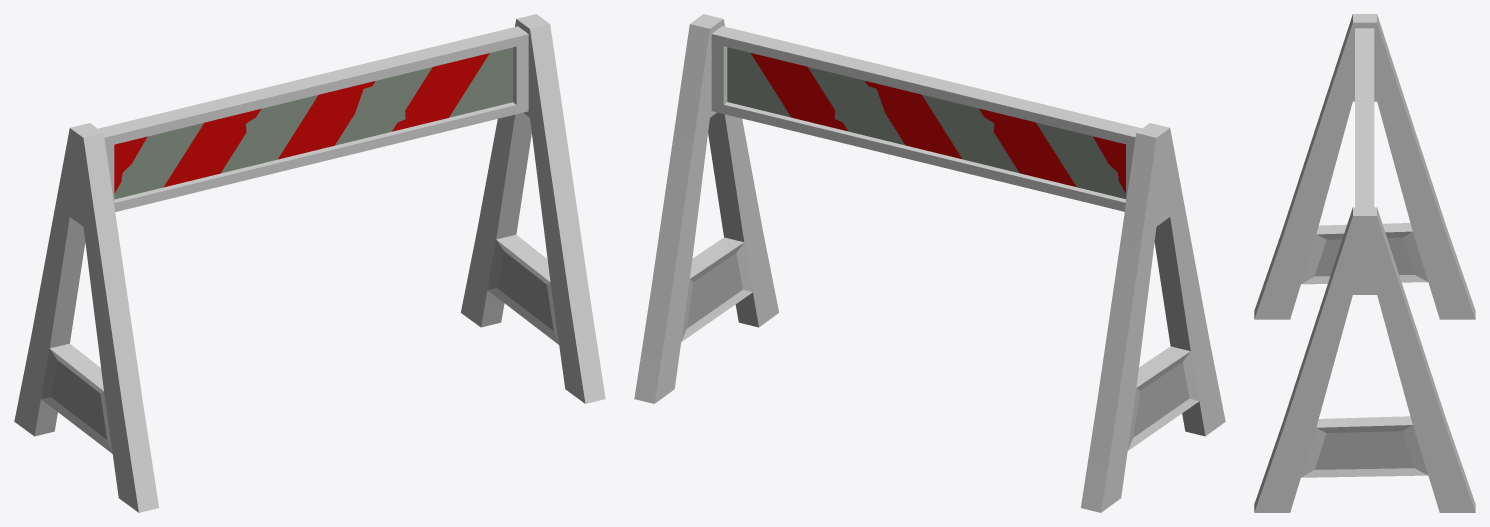
File: Obstacle 3.fbx
3 views of the same model, side by side, from view 1: azimuth 30°, elevation 25°; view 2: azimuth 150°, elevation 25°; view 3: azimuth 270°, elevation 25° (orthographic). The views are drawn at different scales.
Parts seen in each view (by area): view 1: SM_Prop_Barrier_01; view 2: SM_Prop_Barrier_01; view 3: SM_Prop_Barrier_01.
Part boxes in pixels (x1=…): SM_Prop_Barrier_01: x1=14, y1=14, x2=605, y2=512; SM_Prop_Barrier_01: x1=634, y1=14, x2=1225, y2=512; SM_Prop_Barrier_01: x1=1254, y1=14, x2=1475, y2=512.
Size of the model in its own units: 288 by 197 by 133.
